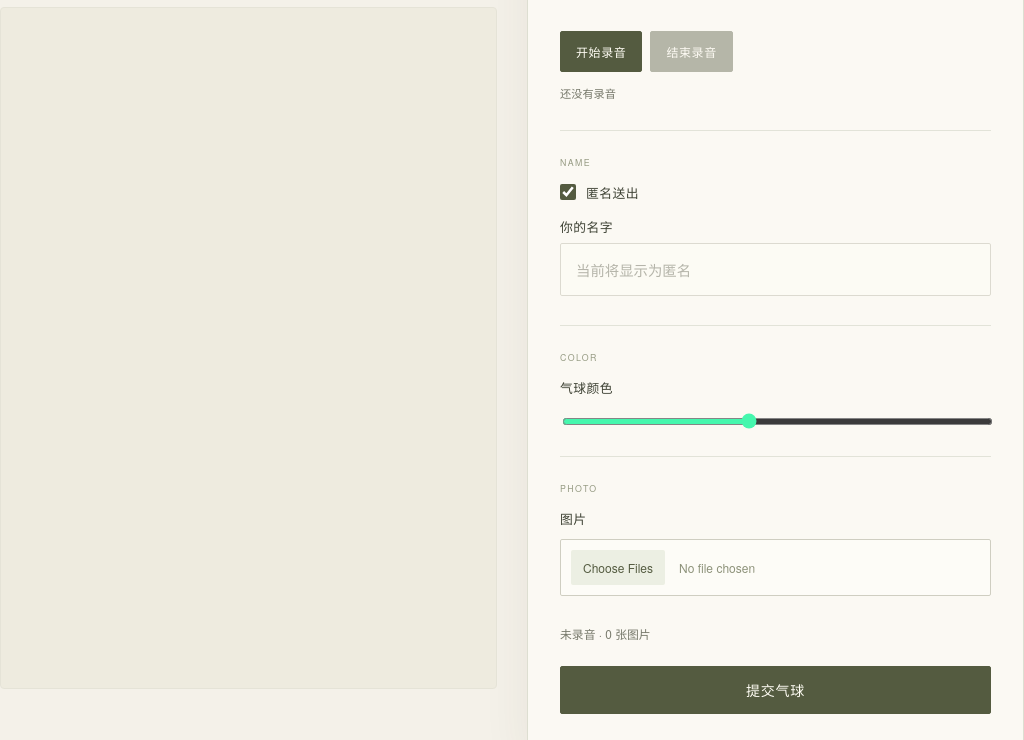
Scenario: GiverComposer › requires audio before submission
(page scrolled)
Click the button "提交气球": (776,690) top-left (560, 666), bottom-right (991, 714)
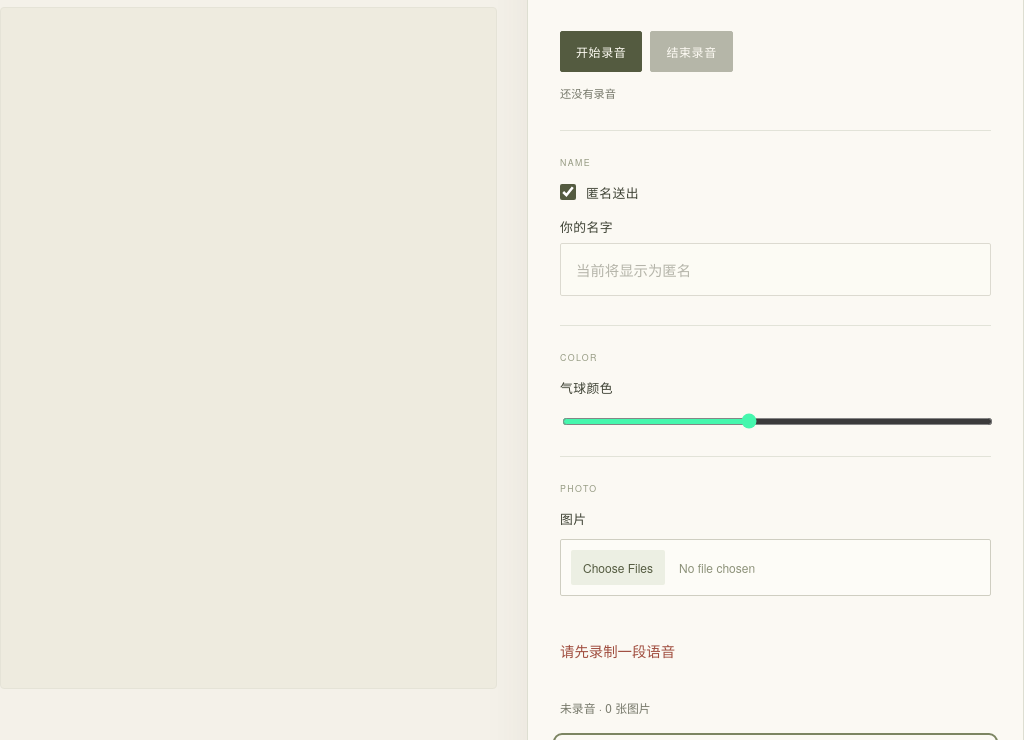
Now the text "请先录制一段语音" is shown, box top-left (560, 640), bottom-right (675, 660)
